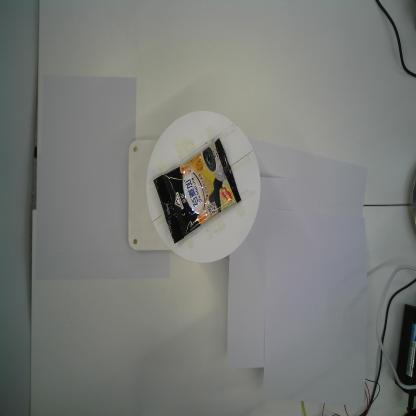Instant Drink: (151, 138, 242, 245)
